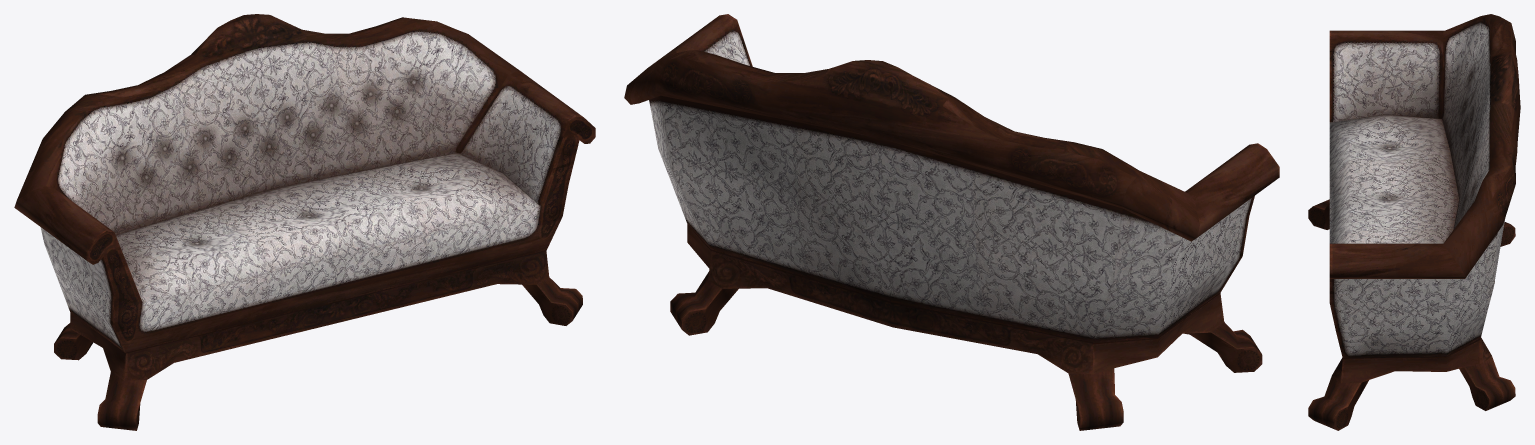
Rendered from sofa_alt.dae.
3 renders of one model, left to right at view 1: azimuth 30°, elevation 25°; view 2: azimuth 150°, elevation 25°; view 3: azimuth 270°, elevation 25°, orthographic. The views are drawn at different scales.
Parts seen in each view (by area): view 1: polySurface2; view 2: polySurface2; view 3: polySurface2.
Boxes of the visible parts, x1,y1,x2,y2 form: polySurface2: (14, 14, 595, 430); polySurface2: (624, 14, 1279, 430); polySurface2: (1308, 14, 1520, 430).
Size of the model in its own units: 2.4 by 1.29 by 0.9348.
Materials: 1 (1 with a texture image).
